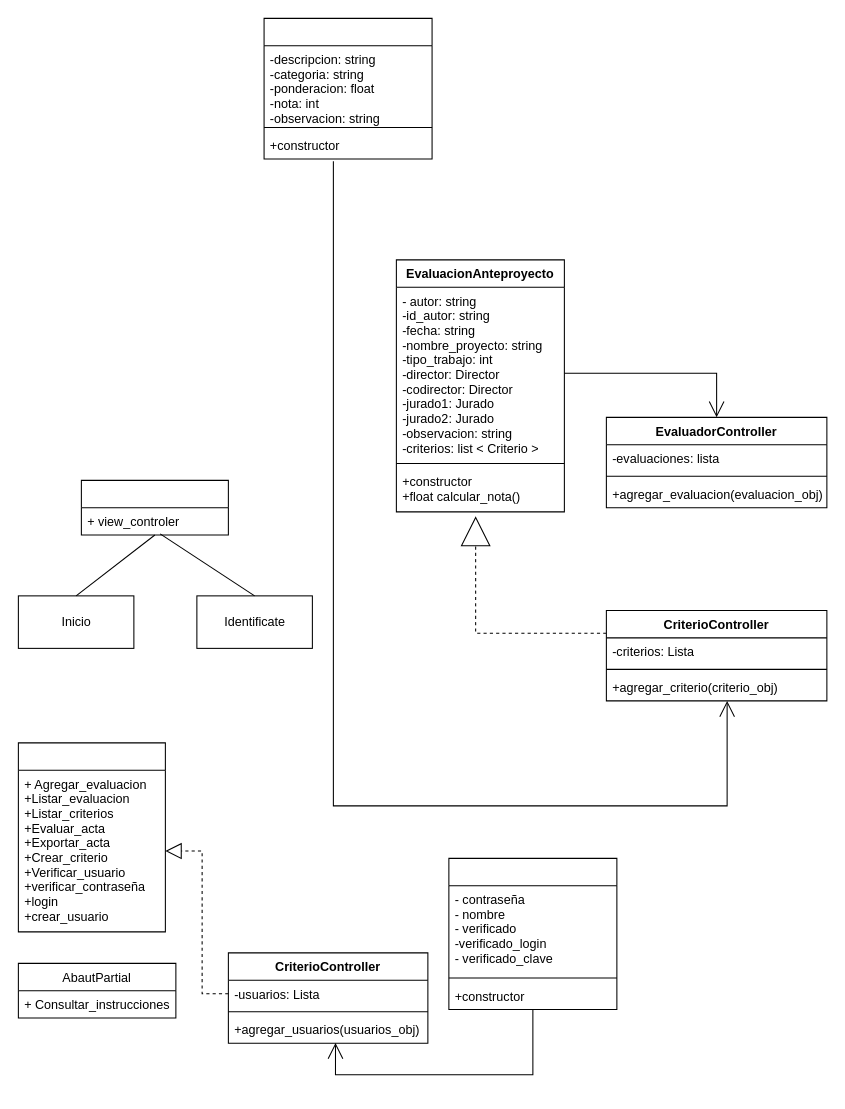
The diagram is 845 pixels wide and 1109 high, and some of its shapes have lost their labels. The shapes that lost their labels are listed below. From the top down, each one's box as (x1, y1, x2, y2) in pixels, then its label:
(263, 17, 432, 159): Criterio
(80, 479, 228, 535): MainView
(17, 742, 165, 932): EvalPartial
(448, 857, 617, 1010): Usuario
